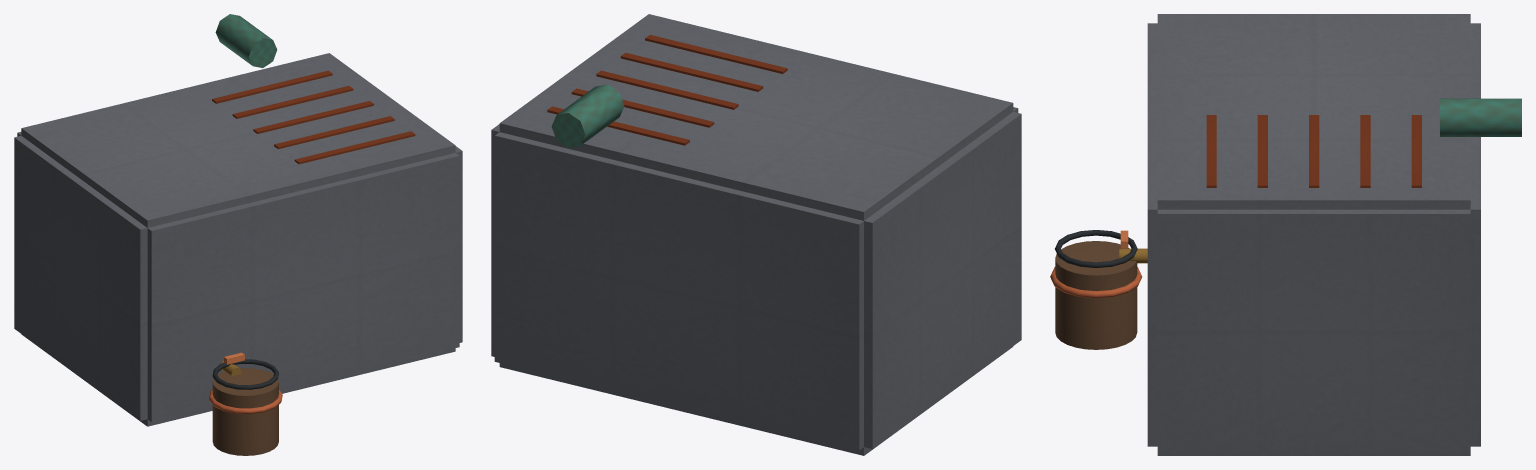
Rendered from water_cistern_copper.glb.
3 views of the same model, side by side, from view 1: azimuth 30°, elevation 25°; view 2: azimuth 150°, elevation 25°; view 3: azimuth 270°, elevation 25° (orthographic). The views are drawn at different scales.
Parts seen in each view (by area): view 1: water_cistern_copper; view 2: water_cistern_copper; view 3: water_cistern_copper.
Boxes of the visible parts, x1=… form: water_cistern_copper: x1=14, y1=14, x2=462, y2=455; water_cistern_copper: x1=491, y1=14, x2=1021, y2=455; water_cistern_copper: x1=1050, y1=14, x2=1521, y2=455.
Size of the model in its own units: 1.8 by 1.41 by 1.84.
Materials: 1 (1 with a texture image).
